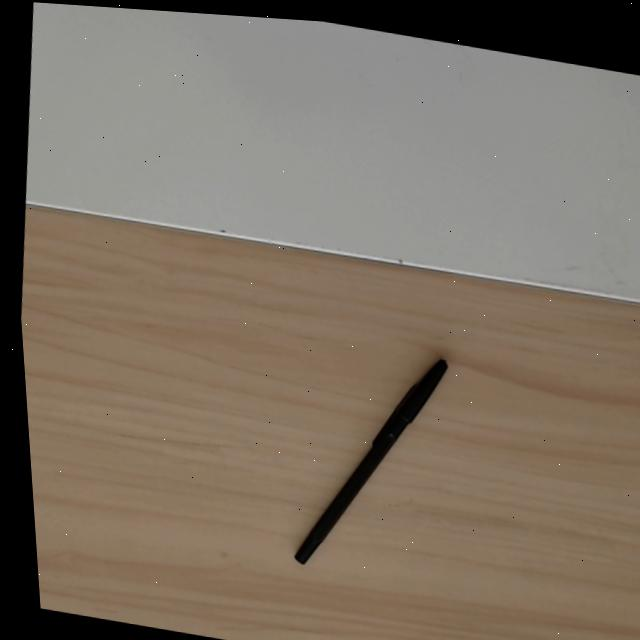Pulpen-Hitam: (284, 351, 453, 566)
